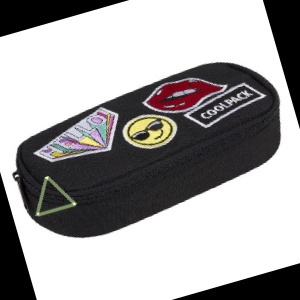triangle: (30, 171, 80, 218)
